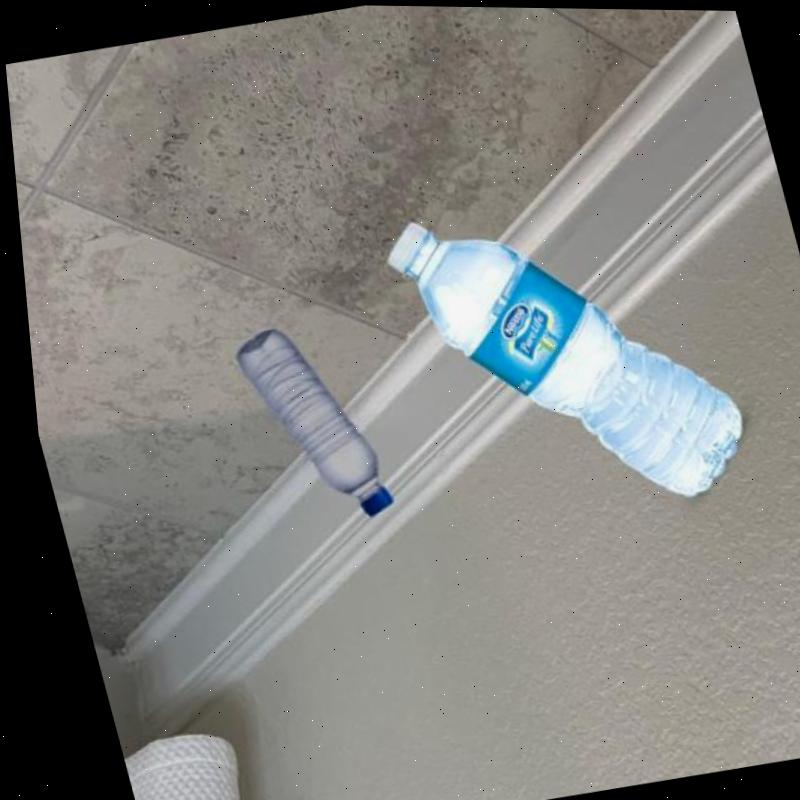botella: (371, 171, 763, 541), (220, 313, 393, 534)
